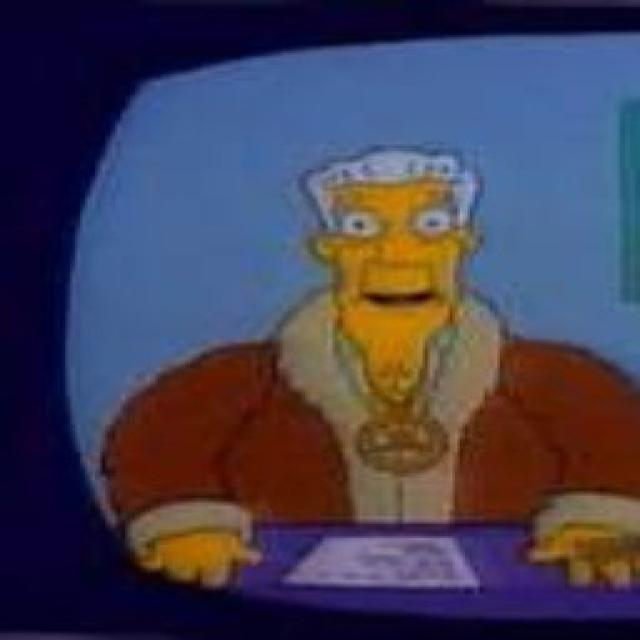Kent Brockman: (299, 143, 486, 335)
